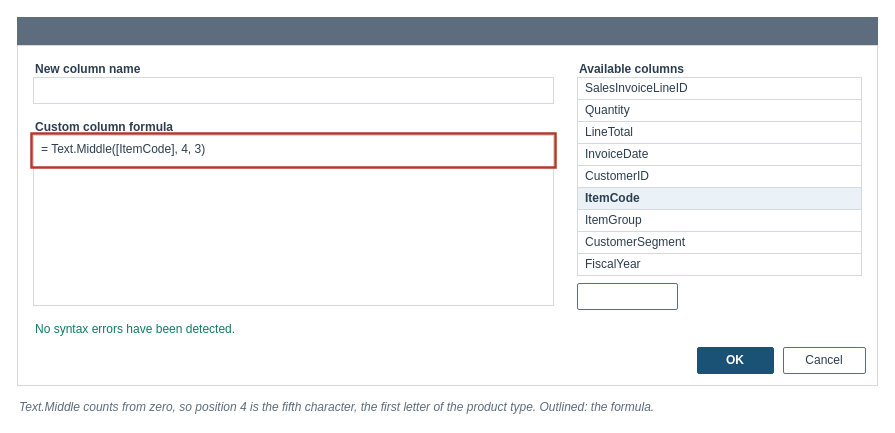
This 895x433 diagram has some shape labels left out. Here are the shapes that lost their labels. From the top down, the centre of each, then its label:
the point at 447,31: Custom Column
the point at 293,90: ProductType
the point at 627,296: << Insert
